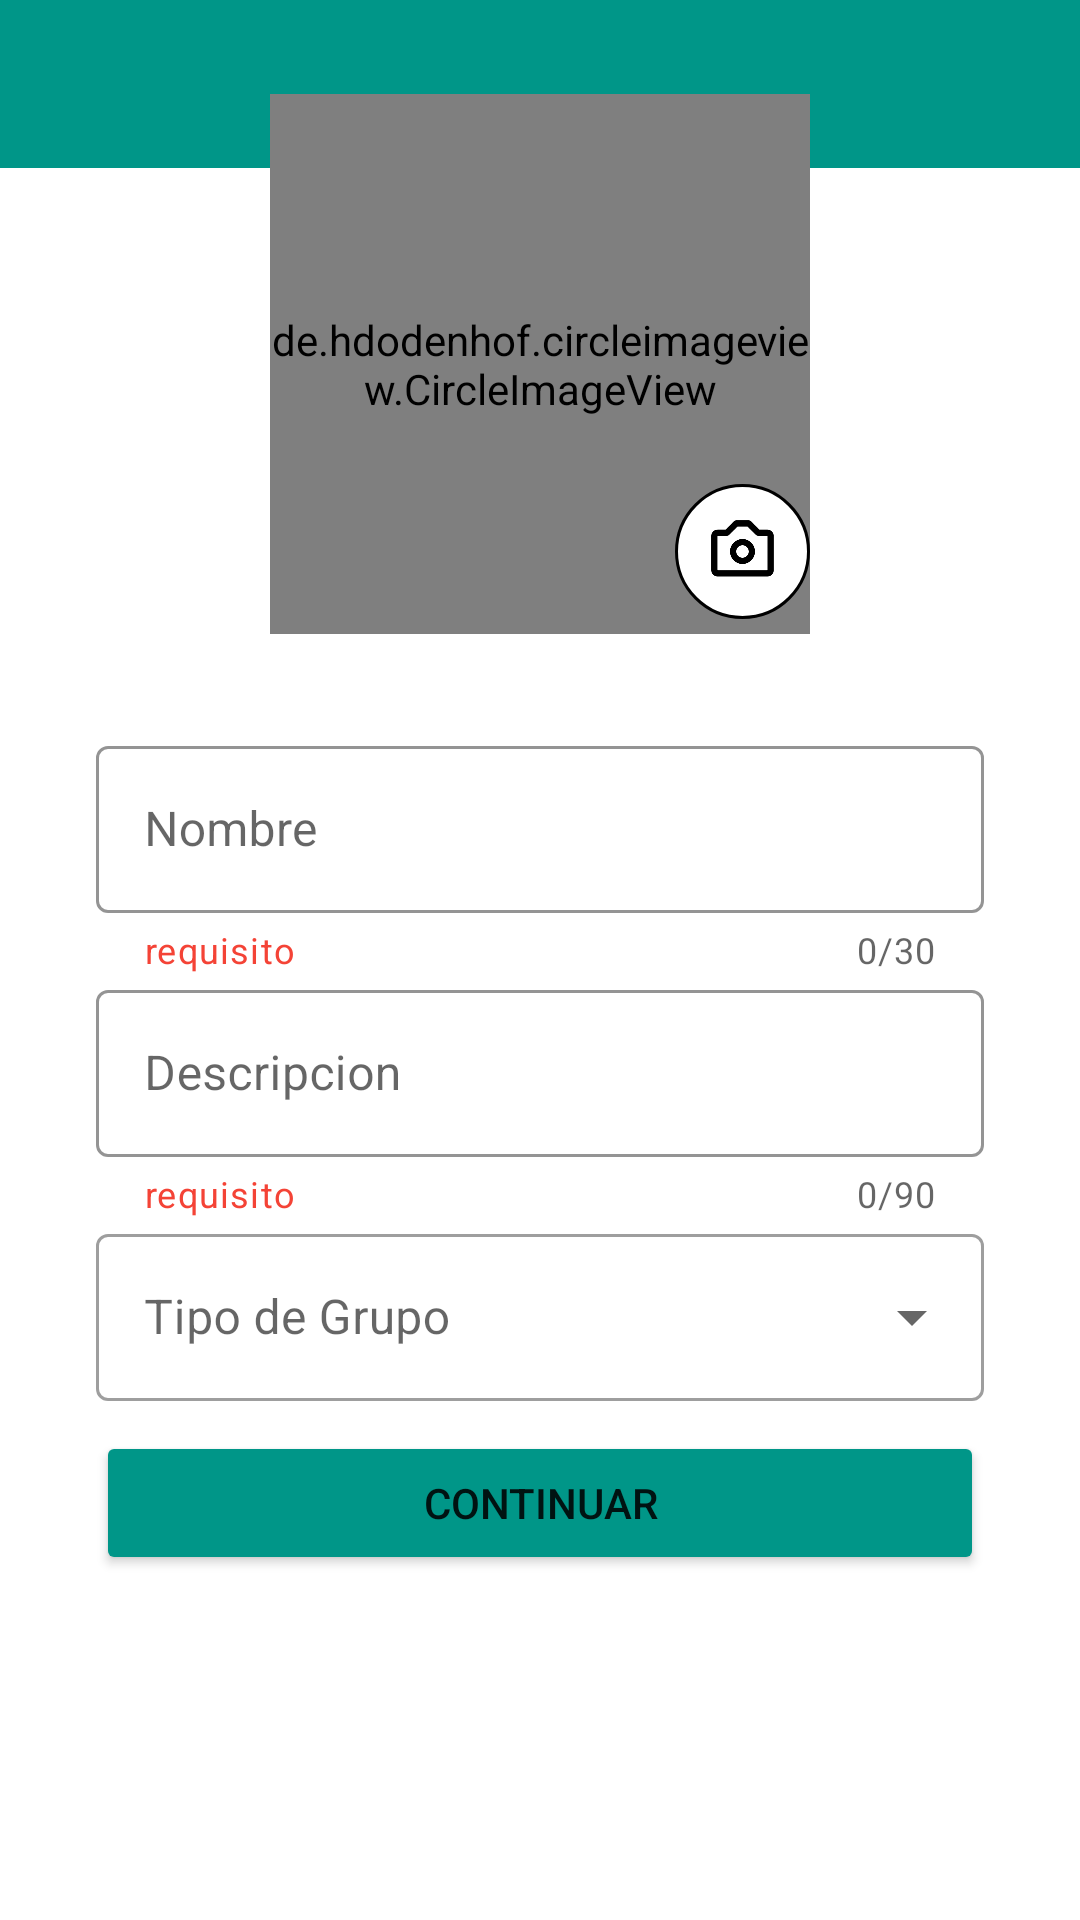

Icon click points for this 1080×1920 phone screenshot, format [x,y]:
camera: [742,551]
